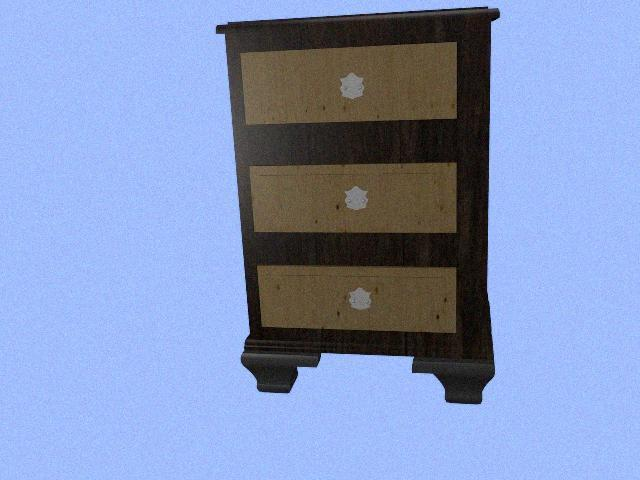cabinet_door: (243, 48, 457, 122), (251, 164, 457, 233), (258, 266, 457, 330)
handle: (336, 72, 366, 103), (344, 286, 376, 315), (343, 187, 369, 213)
